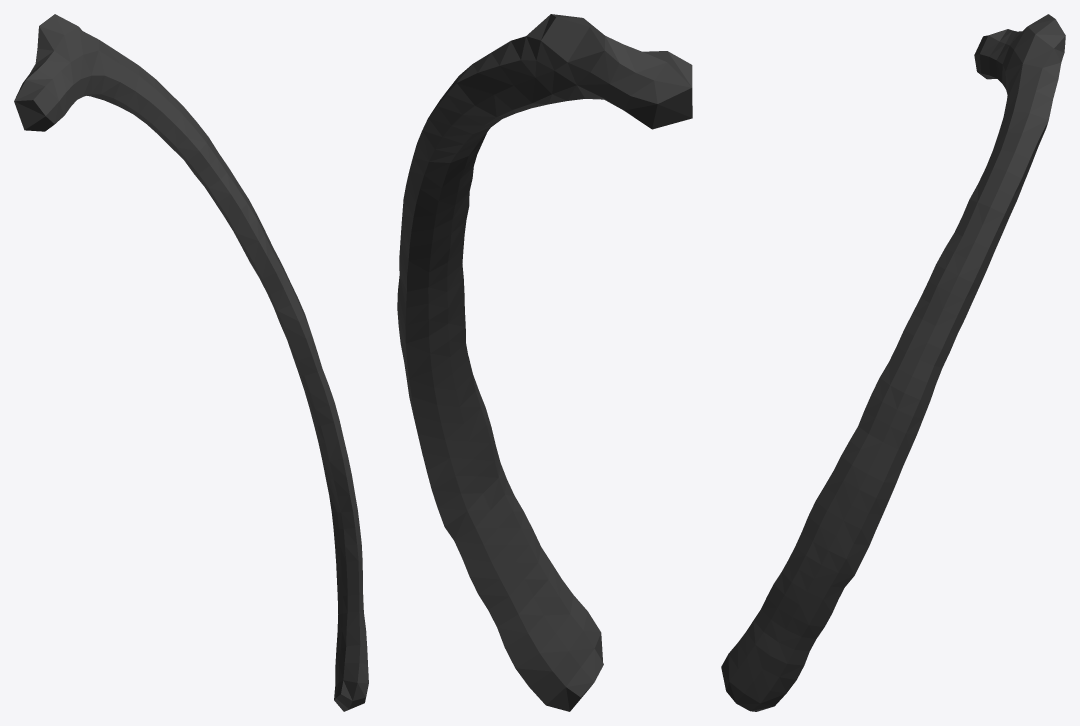
Rendered from Rib_3.glb.
The picture shows the model from 3 angles, left to right: view 1: azimuth 30°, elevation 25°; view 2: azimuth 150°, elevation 25°; view 3: azimuth 270°, elevation 25°; orthographic projection. The views are drawn at different scales.
Visible parts, largest first — view 1: Rib_3; view 2: Rib_3; view 3: Rib_3.
Boxes of the visible parts, x1,y1,x2,y2 form: Rib_3: (14, 14, 368, 711); Rib_3: (397, 14, 692, 711); Rib_3: (721, 14, 1065, 711).
Size of the model in its own units: 2.67 by 6.21 by 3.11.
1 material, 1 textured.
